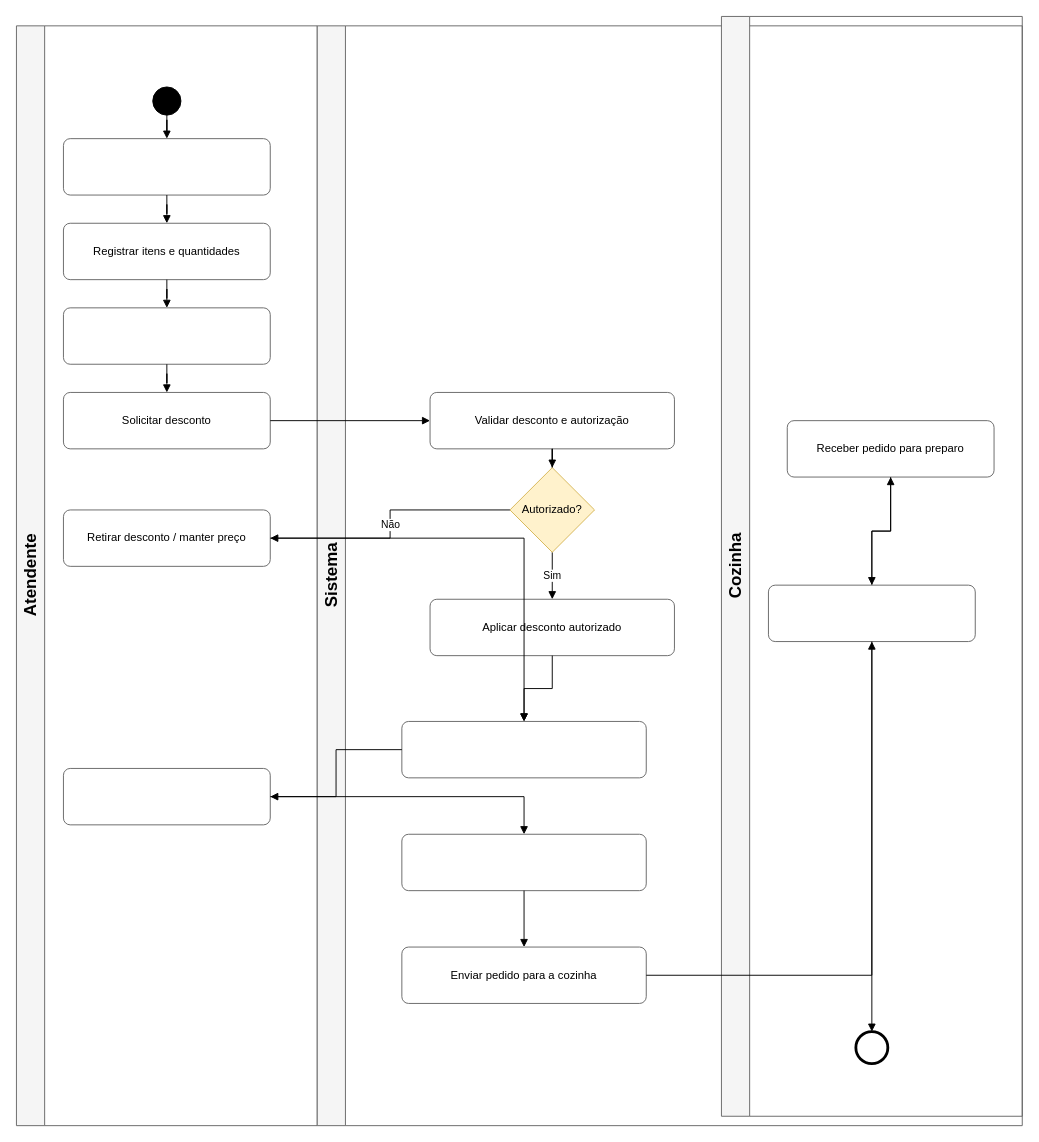
Image size: 1039x1142. Some labels were removed from this diagram. The centre of each missing label's shape, as x and y in pixels:
Calcular total da venda: point (523, 749)
Confirmar pedido: point (166, 796)
Fixar preços e registrar pedido: point (523, 862)
Iniciar preparo: point (871, 613)
Personalizar itens / adicionais: point (166, 335)
Receber solicitação do cliente: point (166, 166)
